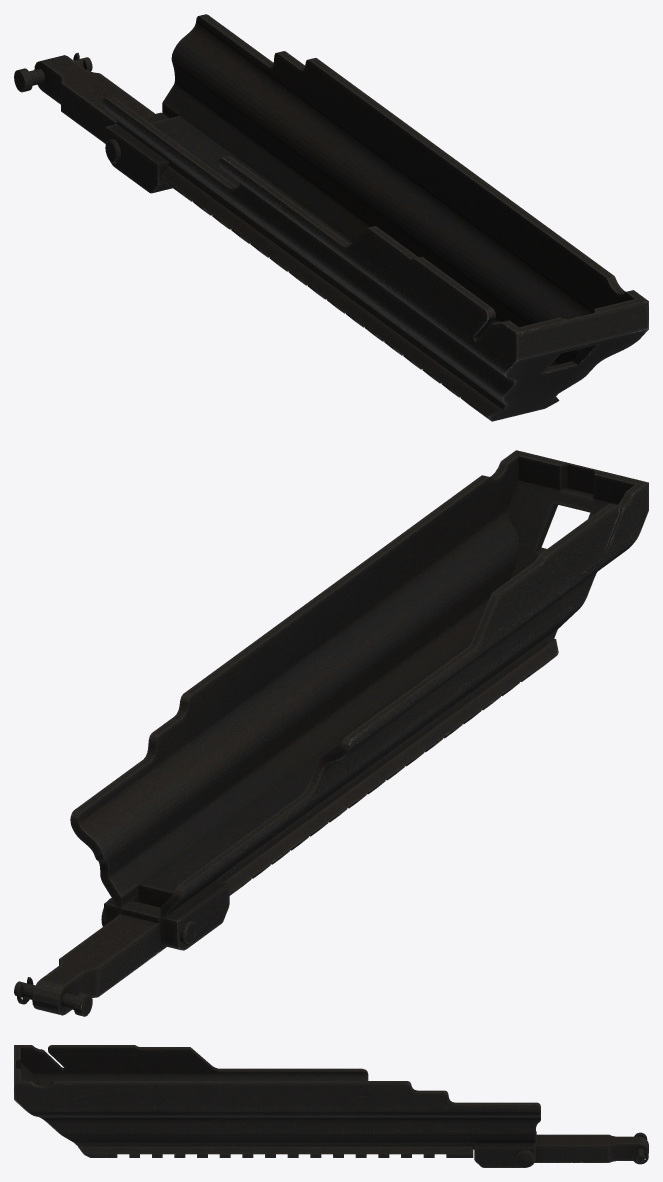
3 views of the same model, one above another, from view 1: azimuth 30°, elevation 25°; view 2: azimuth 150°, elevation 25°; view 3: azimuth 270°, elevation 25° (orthographic). The views are drawn at different scales.
Parts seen in each view (by area): view 1: TW_5d2c772c48f0355d95672c25_PZ_Import; view 2: TW_5d2c772c48f0355d95672c25_PZ_Import; view 3: TW_5d2c772c48f0355d95672c25_PZ_Import.
Boxes of the visible parts, left/top/right/bottom form: TW_5d2c772c48f0355d95672c25_PZ_Import: left=14, top=14, right=648, bottom=421; TW_5d2c772c48f0355d95672c25_PZ_Import: left=14, top=450, right=648, bottom=1016; TW_5d2c772c48f0355d95672c25_PZ_Import: left=14, top=1045, right=648, bottom=1167.
Size of the model in its own units: 0.0232 by 0.1626 by 0.0263.
1 material, 1 textured.
